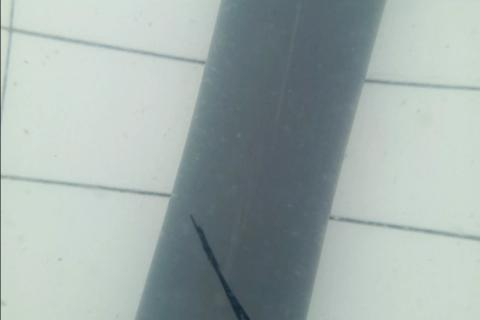keretakan: (189, 211, 254, 320)
